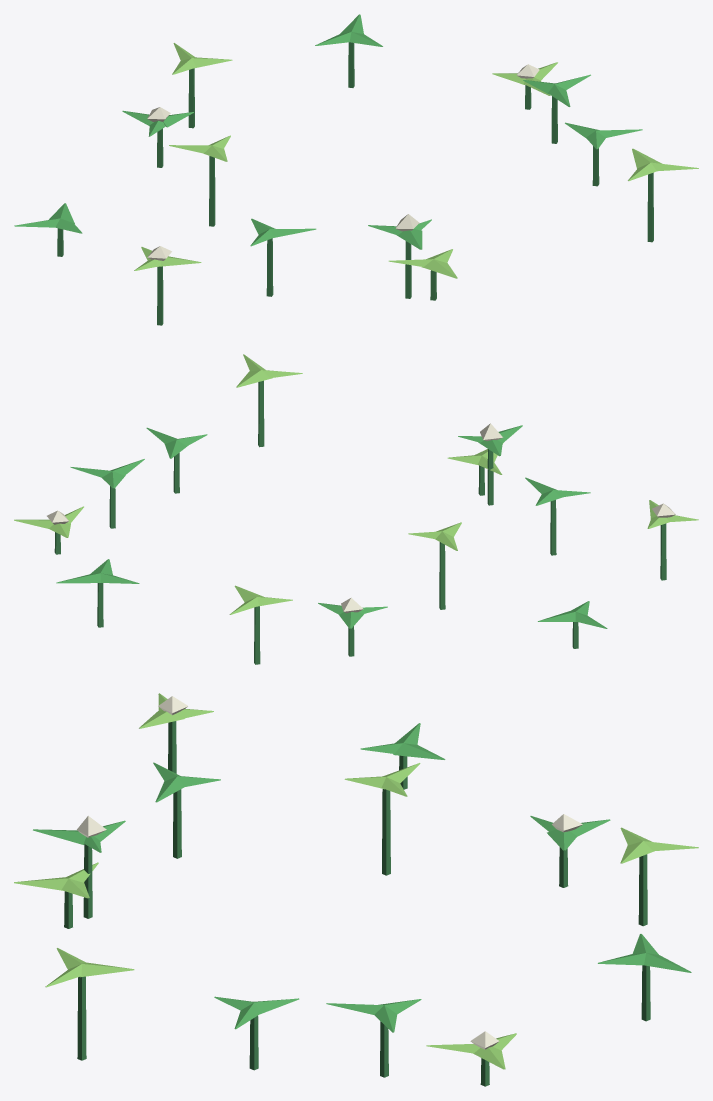
The model's file is clover_patch_a.glb.
3 renders of one model, top to bottom at view 1: azimuth 30°, elevation 25°; view 2: azimuth 150°, elevation 25°; view 3: azimuth 270°, elevation 25°, orthographic. The views are drawn at different scales.
Visible parts, largest first — view 1: CloverPatchA; view 2: CloverPatchA; view 3: CloverPatchA.
Boxes of the visible parts, left/top/right/bottom form: CloverPatchA: left=14, top=14, right=698, bottom=325; CloverPatchA: left=14, top=354, right=698, bottom=664; CloverPatchA: left=14, top=693, right=698, bottom=1086.
Bounding box in the file's own units: 0.8649 × 0.1197 × 0.7316.
